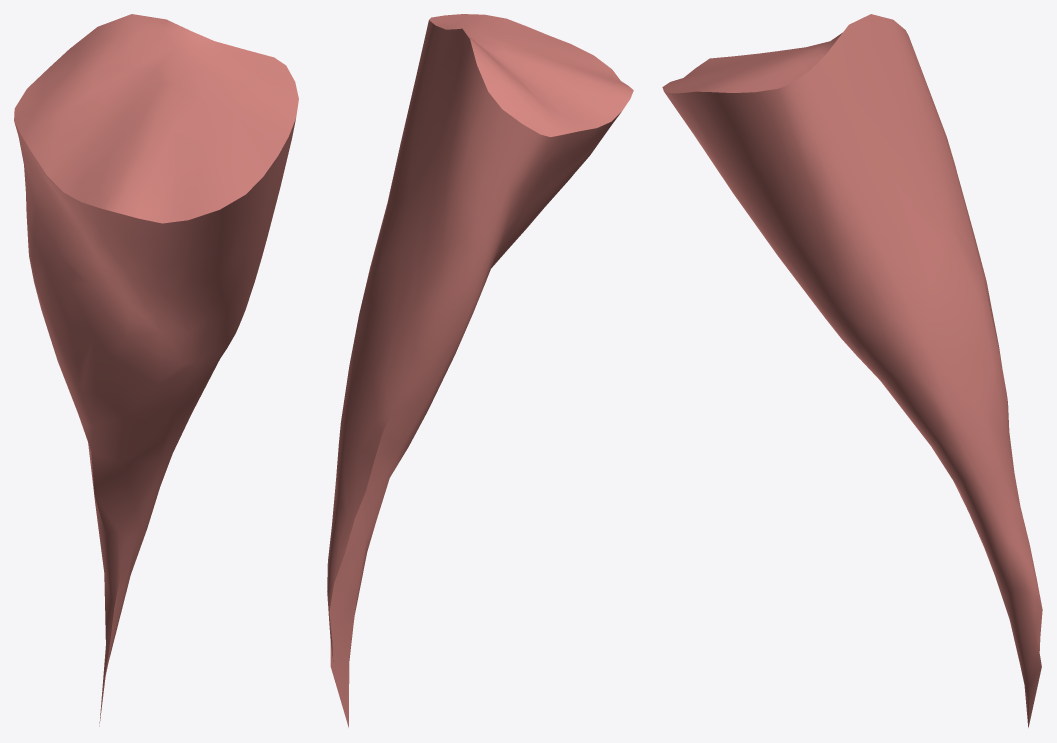
Rendered from fma299429_mm1771m.glb.
3 renders of one model, left to right at view 1: azimuth 30°, elevation 25°; view 2: azimuth 150°, elevation 25°; view 3: azimuth 270°, elevation 25°, orthographic. The views are drawn at different scales.
Parts seen in each view (by area): view 1: FMA299429_MM1771M; view 2: FMA299429_MM1771M; view 3: FMA299429_MM1771M.
Boxes of the visible parts, <box> form: FMA299429_MM1771M: <box>14,14,298,726</box>; FMA299429_MM1771M: <box>327,14,633,727</box>; FMA299429_MM1771M: <box>662,14,1042,727</box>.
Size of the model in its own units: 0.0123 by 0.0403 by 0.0201.
